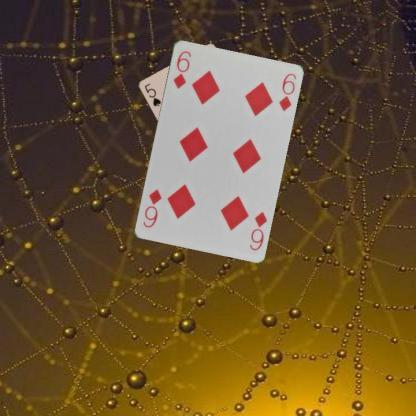5s: (141, 80, 162, 108)
6d: (246, 208, 268, 252), (170, 48, 192, 90)
